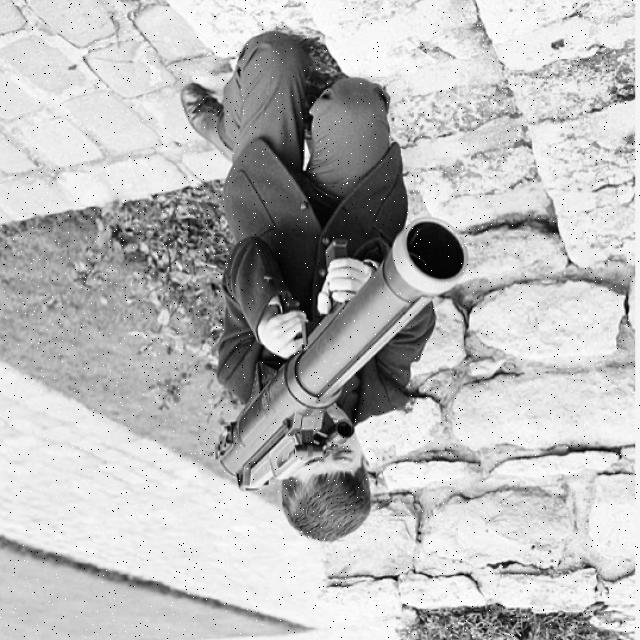bazooka: (203, 202, 482, 492)
